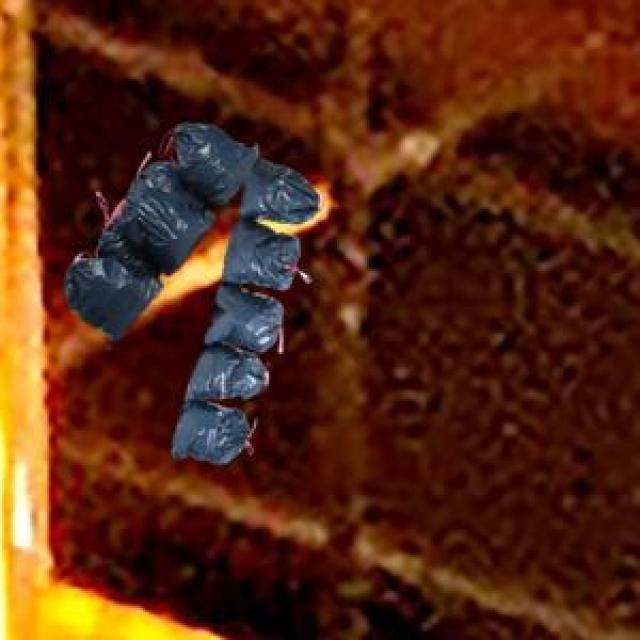miscellaneous trash: (169, 152, 318, 459), (62, 120, 253, 346)
